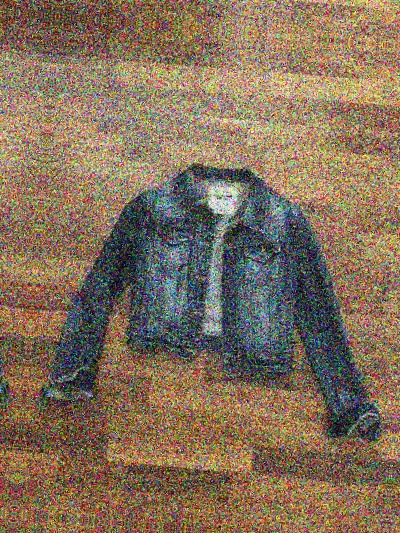Blazer: (26, 110, 400, 461), (0, 78, 44, 429)
